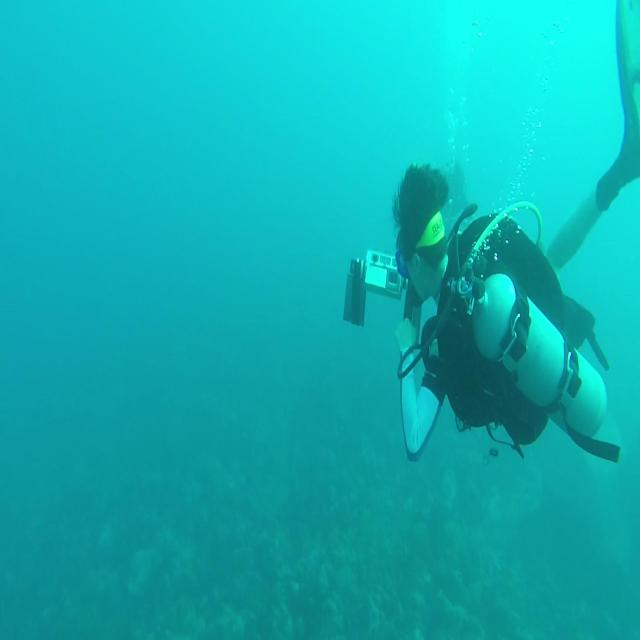human: (344, 2, 639, 465)
